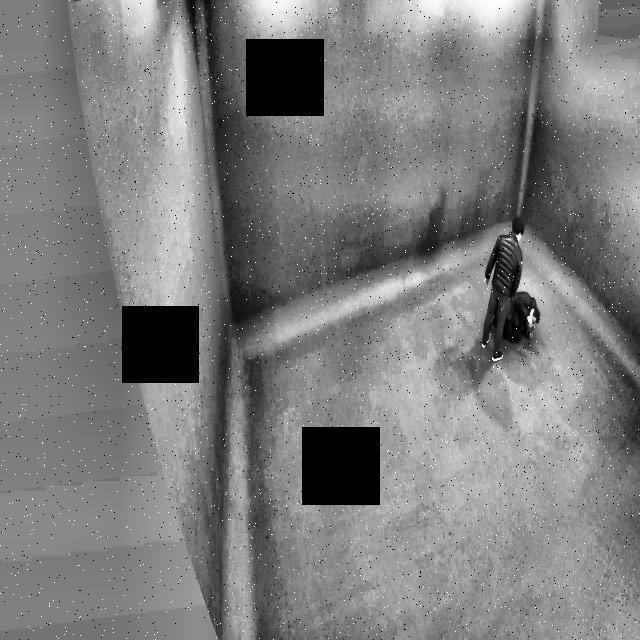assult: (480, 203, 542, 363), (504, 278, 538, 350)
